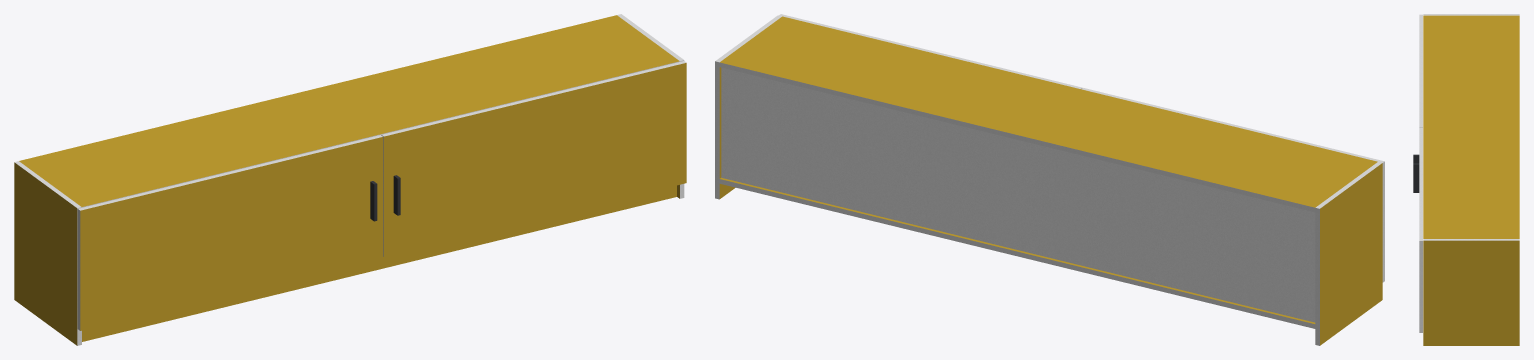
Rendered from FET-MED-long.glb.
3 renders of one model, left to right at view 1: azimuth 30°, elevation 25°; view 2: azimuth 150°, elevation 25°; view 3: azimuth 270°, elevation 25°, orthographic. The views are drawn at different scales.
Visible parts, largest first — view 1: top:pbr, door-l:pbr, door-r:pbr, side-l:pbr, plinth:pbr, door-l:sheet:eyJtIjoibWRmIiwic2lkZSI6ImVkZ2UtbG9uZyIsInNlZWQ, door-r:sheet:eyJtIjoibWRmIiwic2lkZSI6ImVkZ2UtbG9uZyIsInNlZWQ, top:sheet:eyJtIjoibWRmIiwic2lkZSI6ImVkZ2UtbG9uZyIsInNlZWQiOj, pull; view 2: back:sheet:eyJtIjoibWRmIiwic2lkZSI6ImZhY2UiLCJzZWVkIjoxLCJ0a, top:pbr, side-l:pbr, top:sheet:eyJtIjoibWRmIiwic2lkZSI6ImVkZ2UtbG9uZyIsInNlZWQiOj, bottom:sheet:eyJtIjoibWRmIiwic2lkZSI6ImVkZ2UtbG9uZyIsInNlZWQ, bottom:pbr, door-l:sheet:eyJtIjoibWRmIiwic2lkZSI6ImVkZ2UtbG9uZyIsInNlZWQ, door-r:sheet:eyJtIjoibWRmIiwic2lkZSI6ImVkZ2UtbG9uZyIsInNlZWQ, side-l:sheet:eyJtIjoibWRmIiwic2lkZSI6ImVkZ2UtbG9uZyIsInNlZWQ, side-r:sheet:eyJtIjoibWRmIiwic2lkZSI6ImVkZ2UtbG9uZyIsInNlZWQ; view 3: top:pbr, side-r:pbr, door-l:sheet:eyJtIjoibWRmIiwic2lkZSI6ImVkZ2UtbG9uZyIsInNlZWQ, door-r:sheet:eyJtIjoibWRmIiwic2lkZSI6ImVkZ2UtbG9uZyIsInNlZWQ, door-r:sheet:eyJtIjoibWRmIiwic2lkZSI6ImVkZ2UtZW5kIiwic2VlZCI, pull, side-l:sheet:eyJtIjoibWRmIiwic2lkZSI6ImVkZ2UtZW5kIiwic2VlZCI, side-r:sheet:eyJtIjoibWRmIiwic2lkZSI6ImVkZ2UtZW5kIiwic2VlZCI.
Boxes of the visible parts, x1,y1,x2,y2 form: top:pbr: (19, 15, 679, 206); door-l:pbr: (80, 137, 383, 330); door-r:pbr: (384, 63, 686, 256); side-l:pbr: (14, 162, 77, 345); plinth:pbr: (82, 185, 676, 341); door-l:sheet:eyJtIjoibWRmIiwic2lkZSI6ImVkZ2UtbG9uZyIsInNlZWQ: (78, 135, 382, 210); door-r:sheet:eyJtIjoibWRmIiwic2lkZSI6ImVkZ2UtbG9uZyIsInNlZWQ: (381, 61, 686, 136); top:sheet:eyJtIjoibWRmIiwic2lkZSI6ImVkZ2UtbG9uZyIsInNlZWQiOj: (82, 61, 679, 207); pull: (370, 175, 400, 221); back:sheet:eyJtIjoibWRmIiwic2lkZSI6ImZhY2UiLCJzZWVkIjoxLCJ0a: (721, 67, 1315, 322); top:pbr: (720, 16, 1377, 207); side-l:pbr: (1320, 163, 1382, 345); top:sheet:eyJtIjoibWRmIiwic2lkZSI6ImVkZ2UtbG9uZyIsInNlZWQiOj: (719, 62, 1315, 212); bottom:sheet:eyJtIjoibWRmIiwic2lkZSI6ImVkZ2UtbG9uZyIsInNlZWQ: (719, 179, 1315, 328); bottom:pbr: (720, 177, 1315, 323); door-l:sheet:eyJtIjoibWRmIiwic2lkZSI6ImVkZ2UtbG9uZyIsInNlZWQ: (1081, 88, 1384, 162); door-r:sheet:eyJtIjoibWRmIiwic2lkZSI6ImVkZ2UtbG9uZyIsInNlZWQ: (779, 14, 1081, 88); side-l:sheet:eyJtIjoibWRmIiwic2lkZSI6ImVkZ2UtbG9uZyIsInNlZWQ: (1315, 208, 1319, 345); side-r:sheet:eyJtIjoibWRmIiwic2lkZSI6ImVkZ2UtbG9uZyIsInNlZWQ: (715, 61, 719, 199); top:pbr: (1423, 15, 1519, 238); side-r:pbr: (1423, 240, 1519, 345); door-l:sheet:eyJtIjoibWRmIiwic2lkZSI6ImVkZ2UtbG9uZyIsInNlZWQ: (1419, 14, 1422, 127); door-r:sheet:eyJtIjoibWRmIiwic2lkZSI6ImVkZ2UtbG9uZyIsInNlZWQ: (1419, 128, 1422, 240); door-r:sheet:eyJtIjoibWRmIiwic2lkZSI6ImVkZ2UtZW5kIiwic2VlZCI: (1419, 241, 1422, 332); pull: (1413, 154, 1419, 192); side-l:sheet:eyJtIjoibWRmIiwic2lkZSI6ImVkZ2UtZW5kIiwic2VlZCI: (1423, 14, 1519, 15); side-r:sheet:eyJtIjoibWRmIiwic2lkZSI6ImVkZ2UtZW5kIiwic2VlZCI: (1423, 239, 1519, 240).
Size of the model in its own units: 2.4 by 0.52 by 0.4769.
34 materials, 23 textured.
